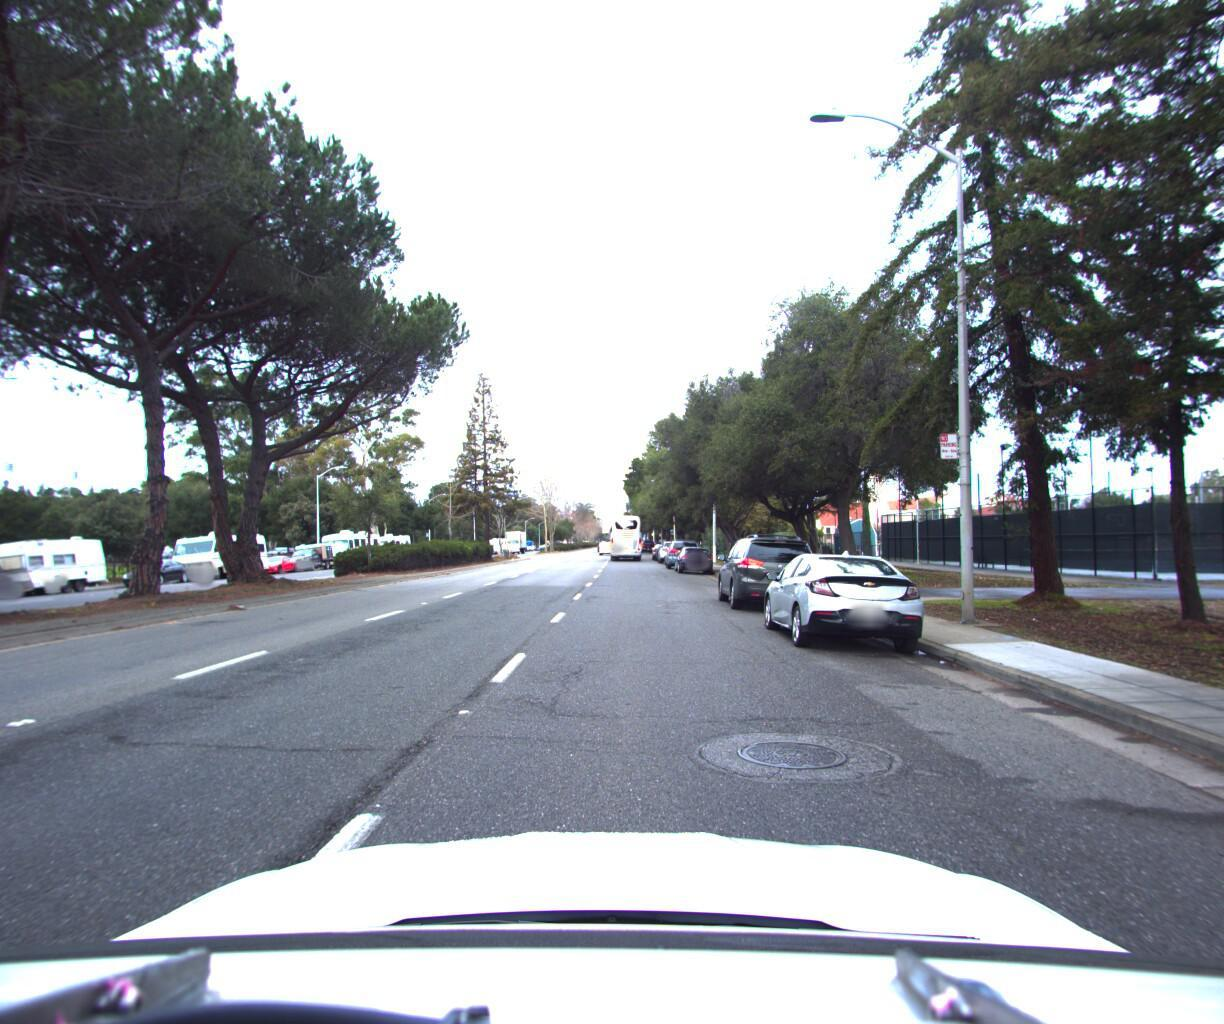bus: (606, 509, 645, 557)
car: (752, 543, 934, 660), (710, 525, 827, 614), (113, 553, 197, 589), (281, 539, 342, 570), (662, 532, 700, 566), (671, 540, 715, 570), (0, 554, 21, 613), (252, 551, 301, 574)
other_vehicle: (0, 532, 114, 598), (165, 529, 276, 584), (317, 524, 386, 567)
